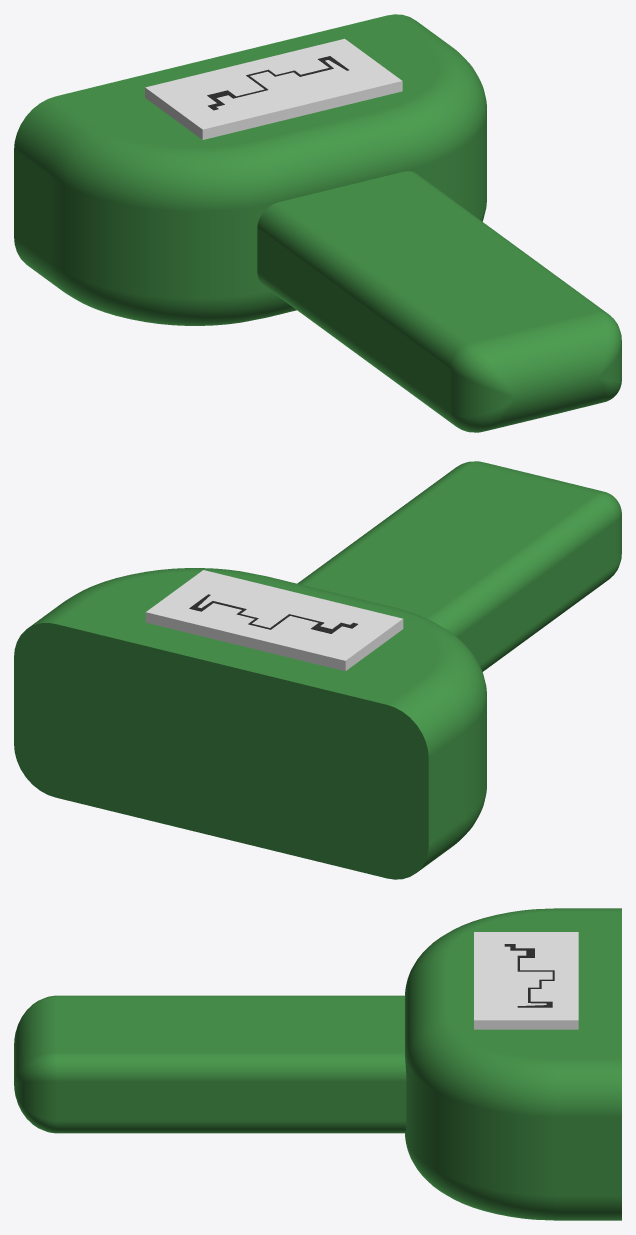
Rendered from Green Bottle.fbx.
The picture shows the model from 3 angles, top to bottom: view 1: azimuth 30°, elevation 25°; view 2: azimuth 150°, elevation 25°; view 3: azimuth 270°, elevation 25°; orthographic projection. The views are drawn at different scales.
Visible parts, largest first — view 1: Body17, Body18, Body20; view 2: Body17, Body18, Body20; view 3: Body17, Body18, Body20.
Part boxes in pixels (x1,y1,x2,y2): Body17: (14,14,621,432); Body18: (145,38,402,139); Body20: (207,56,348,110); Body17: (14,461,621,879); Body18: (145,570,403,671); Body20: (189,594,357,633); Body17: (14,908,621,1220); Body18: (474,932,578,1029); Body20: (504,944,554,1007).
Bounding box in the file's own units: 100 × 42.5 × 140.
